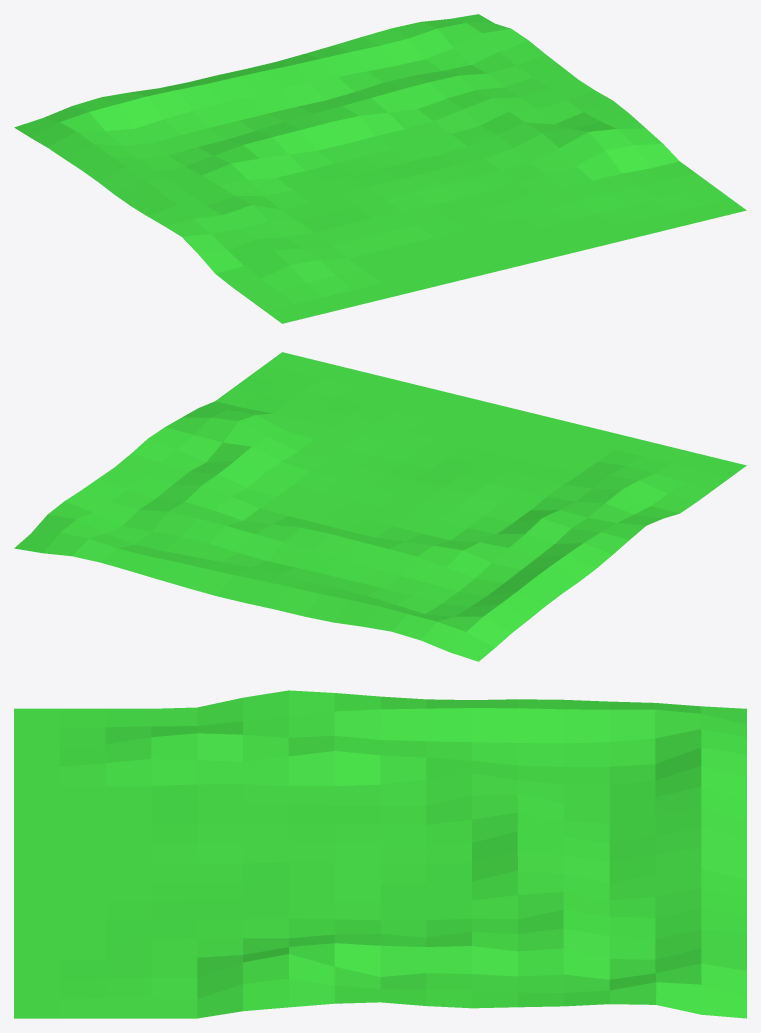
3 renders of one model, top to bottom at view 1: azimuth 30°, elevation 25°; view 2: azimuth 150°, elevation 25°; view 3: azimuth 270°, elevation 25°, orthographic. The views are drawn at different scales.
Parts seen in each view (by area): view 1: Plane; view 2: Plane; view 3: Plane.
Part boxes in pixels (<box>): Plane: <box>14,14,746,323</box>; Plane: <box>14,352,746,661</box>; Plane: <box>14,690,746,1018</box>.
Size of the model in its own units: 50.02 by 1.96 by 50.
